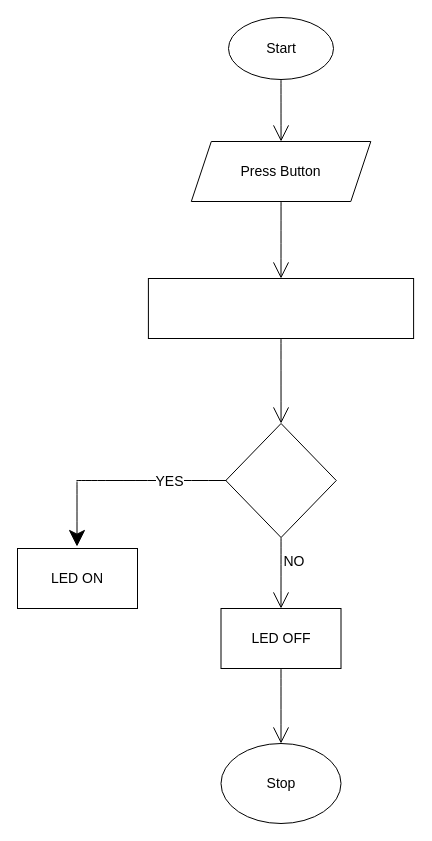
Image size: 432x841. Some labels were removed from this diagram. Each missing label, with the centre of its shape:
Pass the data to the Microcontroller (STM32F407VG): (280,308)
Push Button: (280,480)
